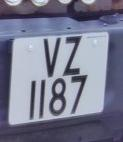1: (25, 76, 42, 124), (35, 76, 49, 123)
7: (66, 72, 91, 118)
8: (47, 75, 69, 121)
V: (39, 34, 64, 80)
Z: (60, 33, 87, 78)
